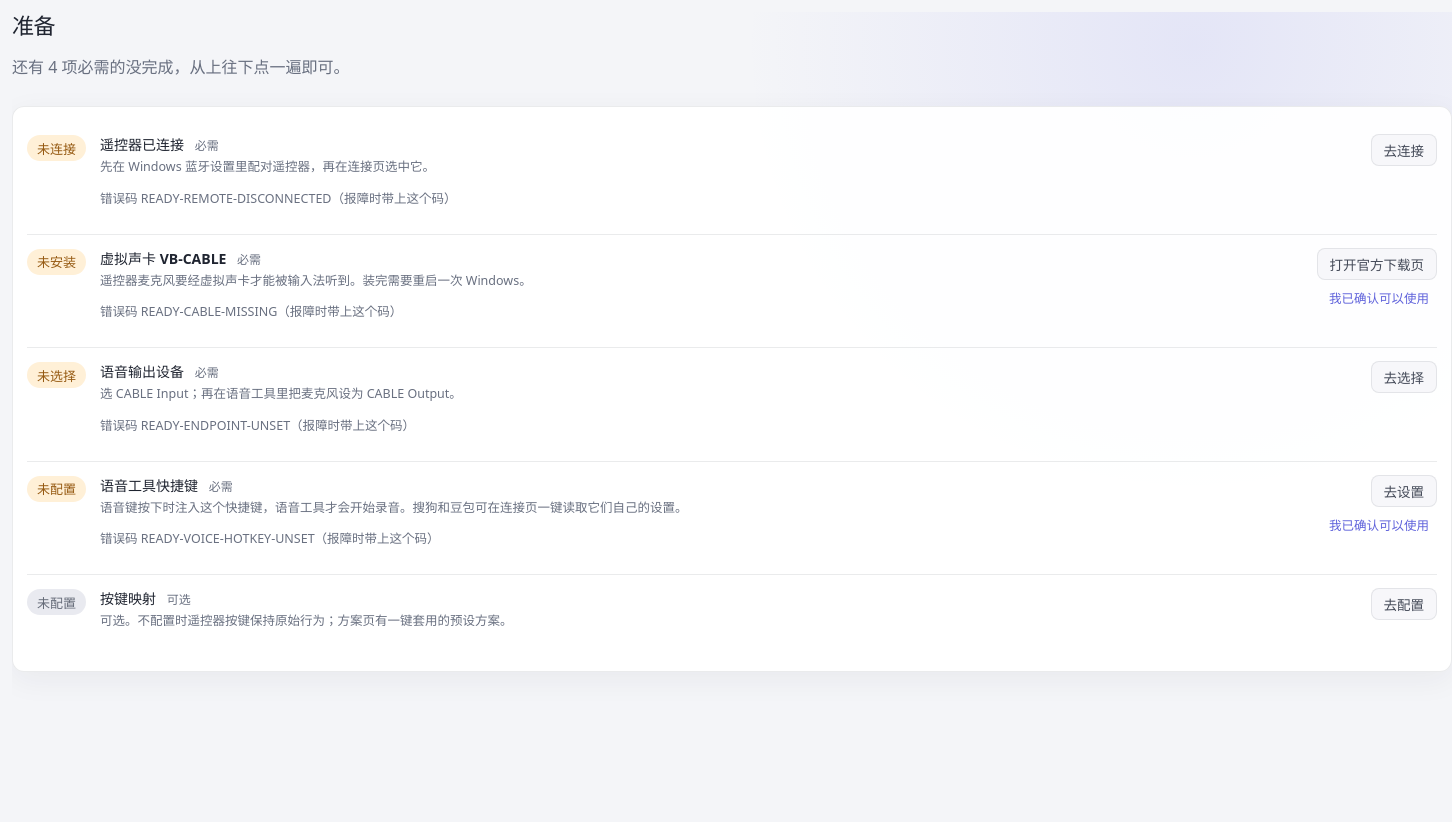
Test: 准备页 › 虚拟声卡没检测到时可以手动确认，确认后这一项算完成
Click the button with class "readiness-confirm" in the row of "遥控器麦克风要经虚拟声卡才能被输入法听到。装完需要重启一次 Windows。". click: (1379, 298)
box: [1321, 286, 1437, 310]
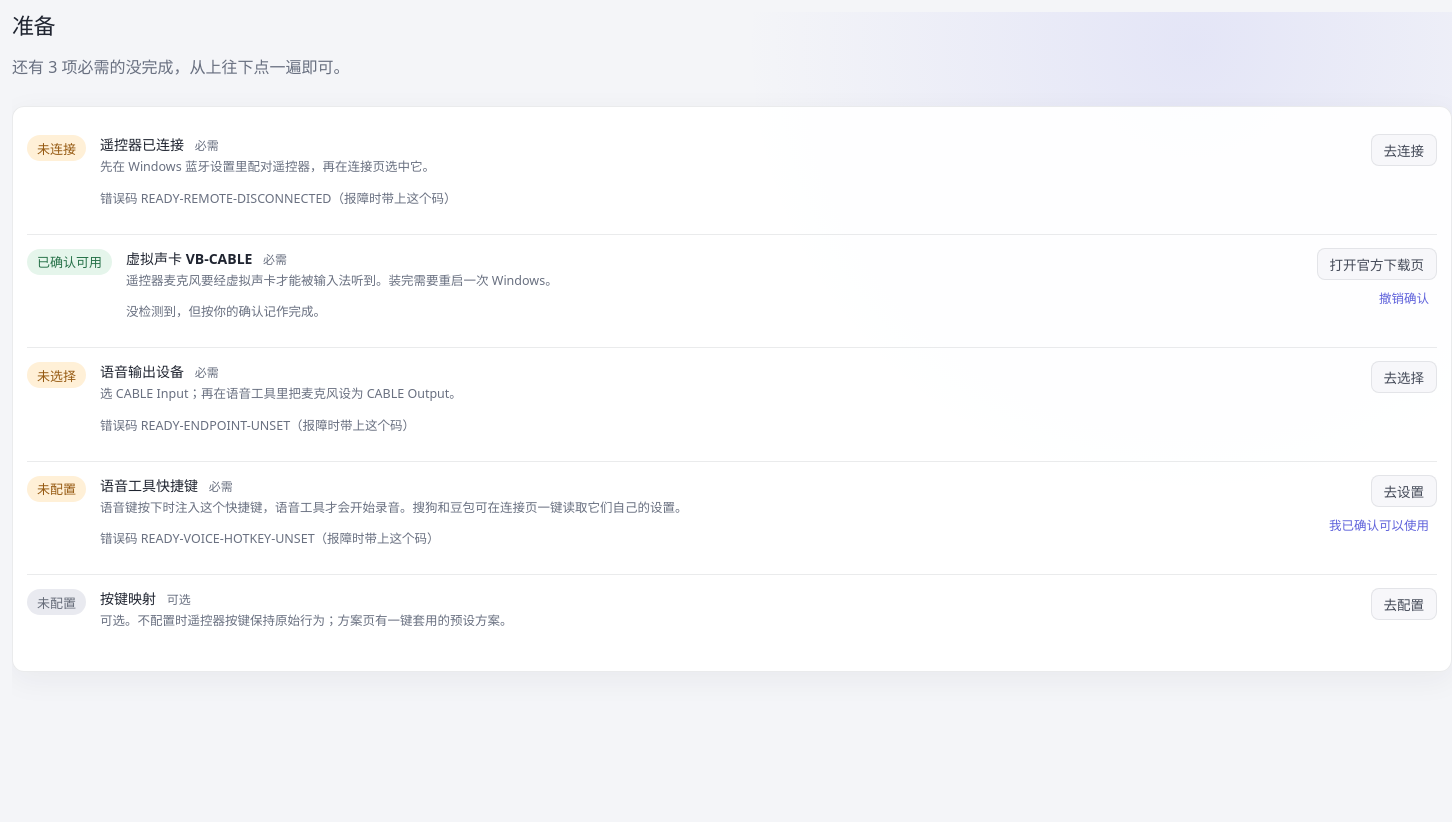
Now the element with class "readiness-row" shows "已确认可用", box [37, 253, 102, 271]
Now the element with class "readiness-row" shows "没检测到，但按你的确认记作完成", box [126, 303, 326, 320]
Now the text with class "readiness-row" no longer shows "READY-CABLE-MISSING"
撤销后回到按检测结果判断。
Click the button with class "readiness-confirm" showing "撤销确认". click: (1404, 298)
box: [1371, 286, 1437, 310]
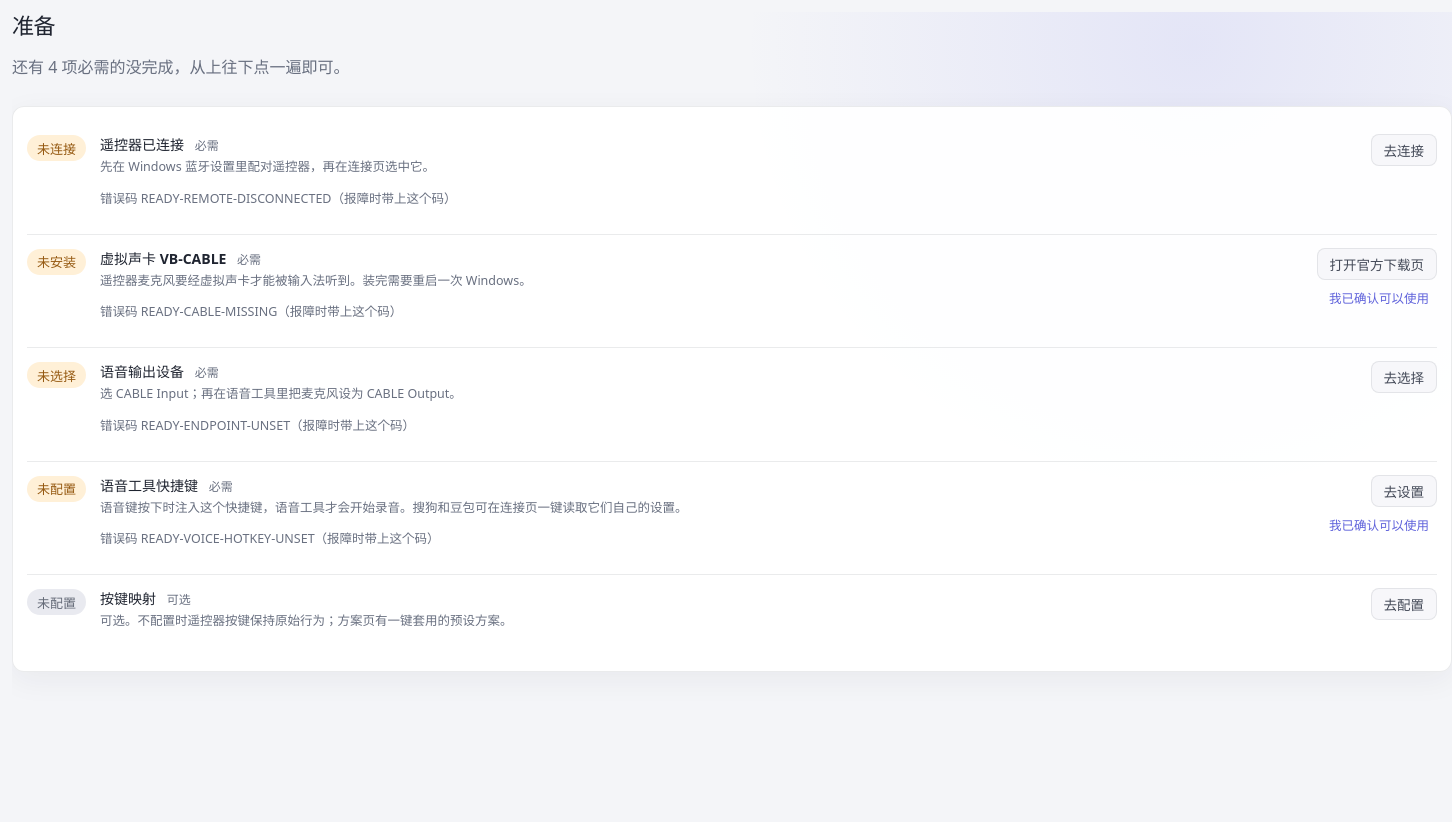
Now the text "还有 4 项必需的没完成" is shown, box [12, 56, 350, 78]
